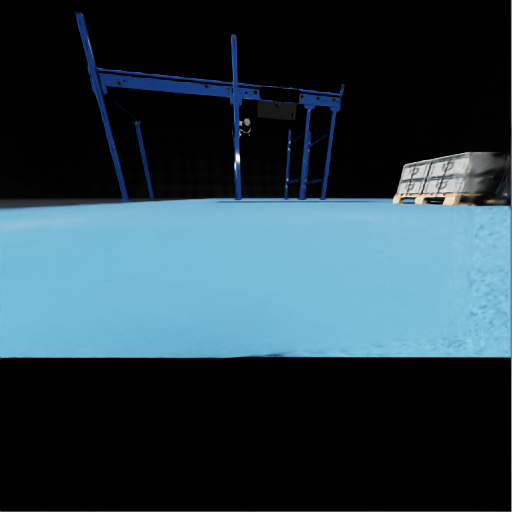transportation_area: (424, 174, 501, 193), (436, 155, 451, 196), (408, 184, 409, 189), (486, 168, 487, 171), (415, 162, 416, 165)
